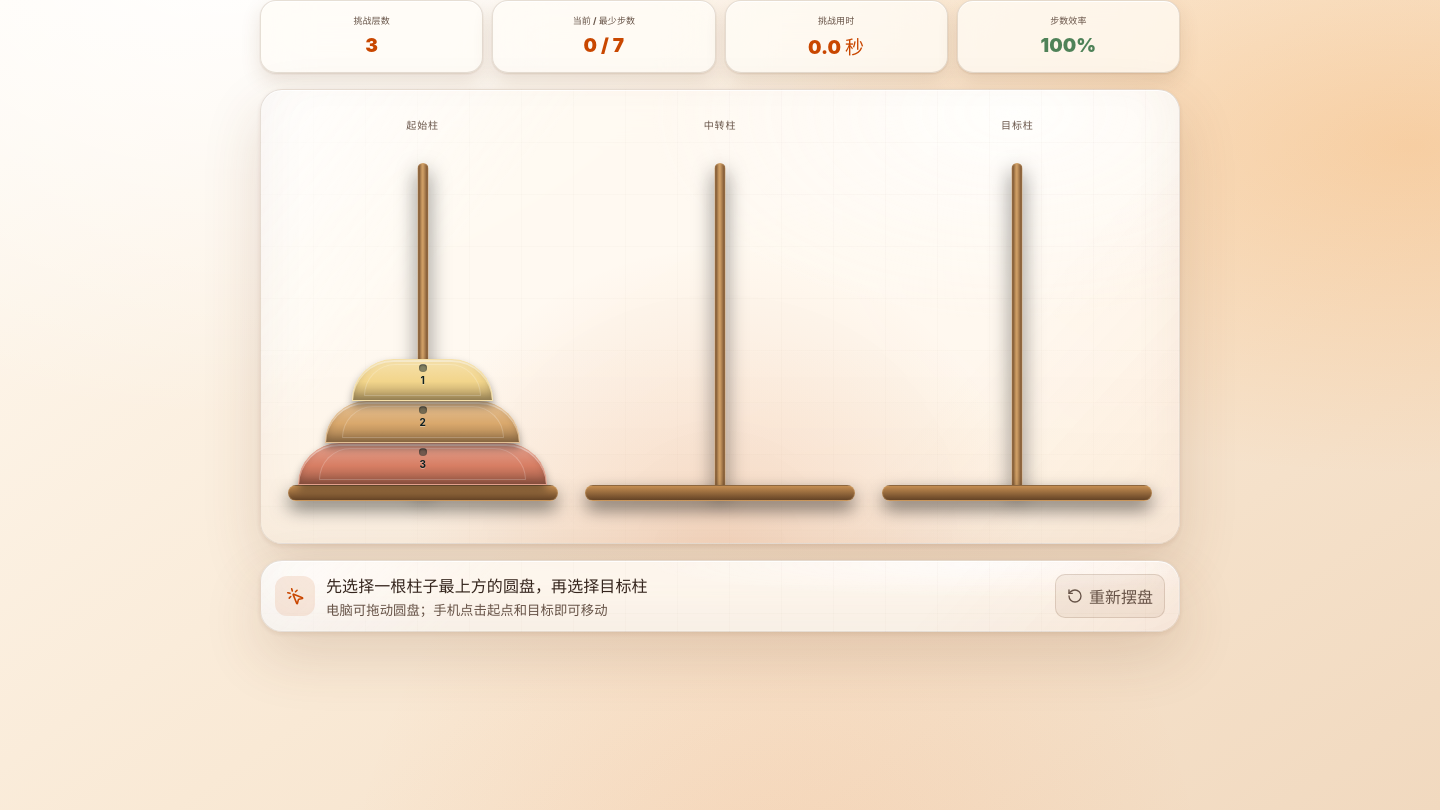
Test: HanoiGame › moves the selected top disc using tap controls
Click the button with class "hanoi-tower" showing "起始柱 3 2 1" at {"x": 423, "y": 316}, box top-left (281, 108), bottom-right (564, 525)
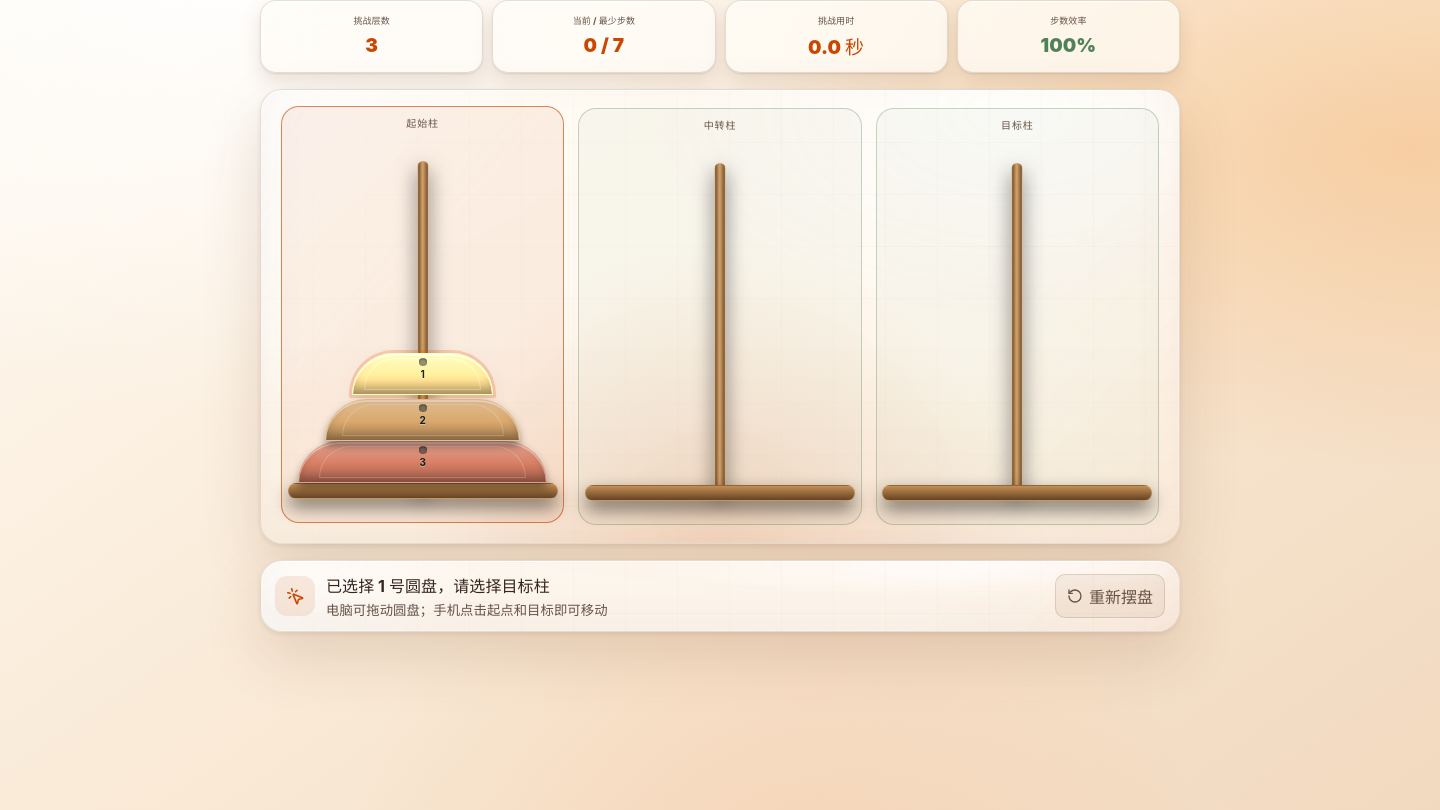
Expected: the button with class "hanoi-tower" has class "selected", top-left (281, 106), bottom-right (564, 523)
Click the button with class "hanoi-tower" showing "目标柱" at {"x": 1017, "y": 316}, box top-left (876, 108), bottom-right (1159, 525)
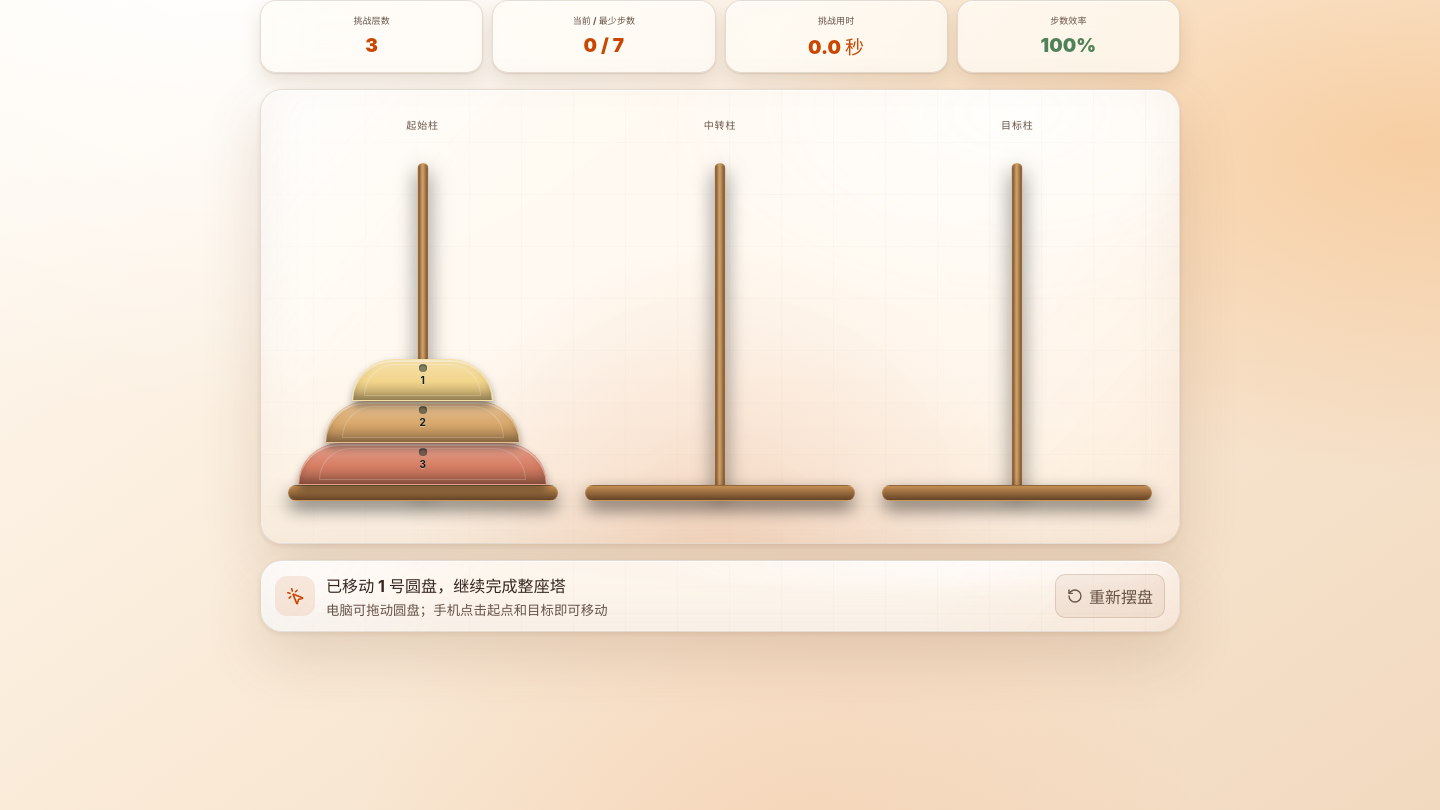
Expected: the text "已移动 1 号圆盘" is shown, top-left (326, 576), bottom-right (566, 596)
